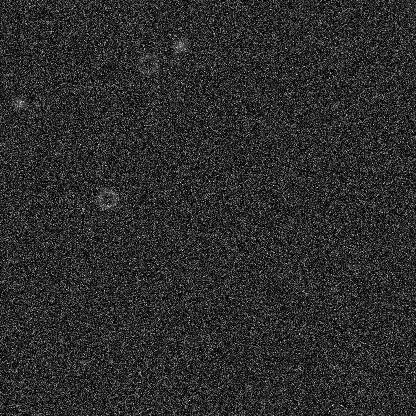Ring: (381, 182, 405, 206), (219, 183, 243, 207), (225, 66, 249, 90), (204, 258, 228, 282)
Spot: (67, 344, 83, 360), (92, 130, 108, 146), (185, 234, 201, 250), (304, 139, 320, 155), (121, 244, 137, 260), (238, 167, 254, 183), (203, 244, 219, 260), (390, 366, 406, 382), (302, 285, 318, 301), (232, 196, 248, 212), (212, 29, 228, 45), (331, 15, 347, 31), (284, 347, 300, 363), (314, 319, 330, 335), (105, 169, 121, 185), (76, 79, 92, 95), (306, 76, 322, 92)
